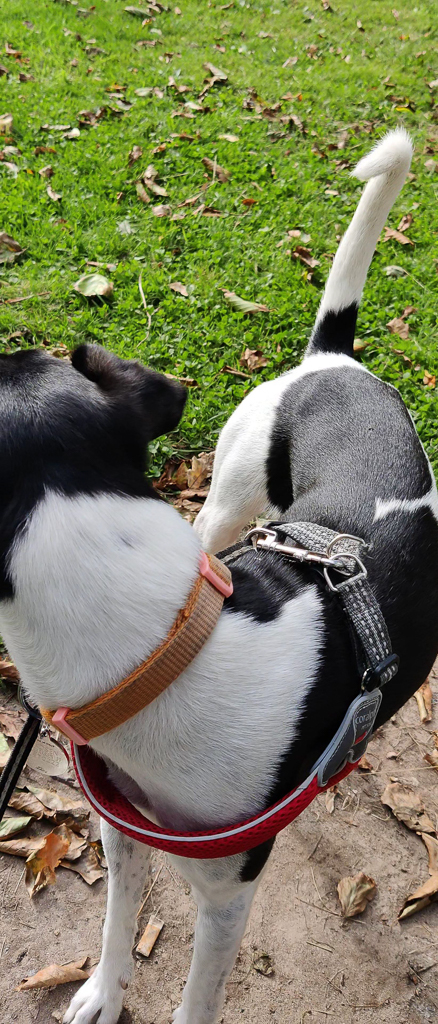Dog: (0, 116, 438, 1024)
